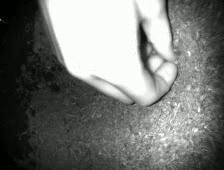corn: (166, 56, 180, 67)
